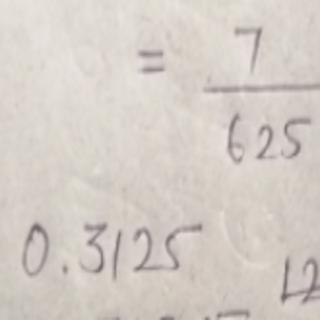.: (54, 263, 74, 280)
0: (21, 218, 54, 278)
1: (111, 231, 124, 284), (282, 251, 292, 305)
2: (133, 226, 162, 273), (298, 256, 320, 302), (257, 124, 277, 162)
3: (79, 221, 109, 274)
5: (162, 220, 202, 272), (282, 118, 316, 160)
6: (224, 112, 248, 164)
7: (234, 24, 264, 76)
